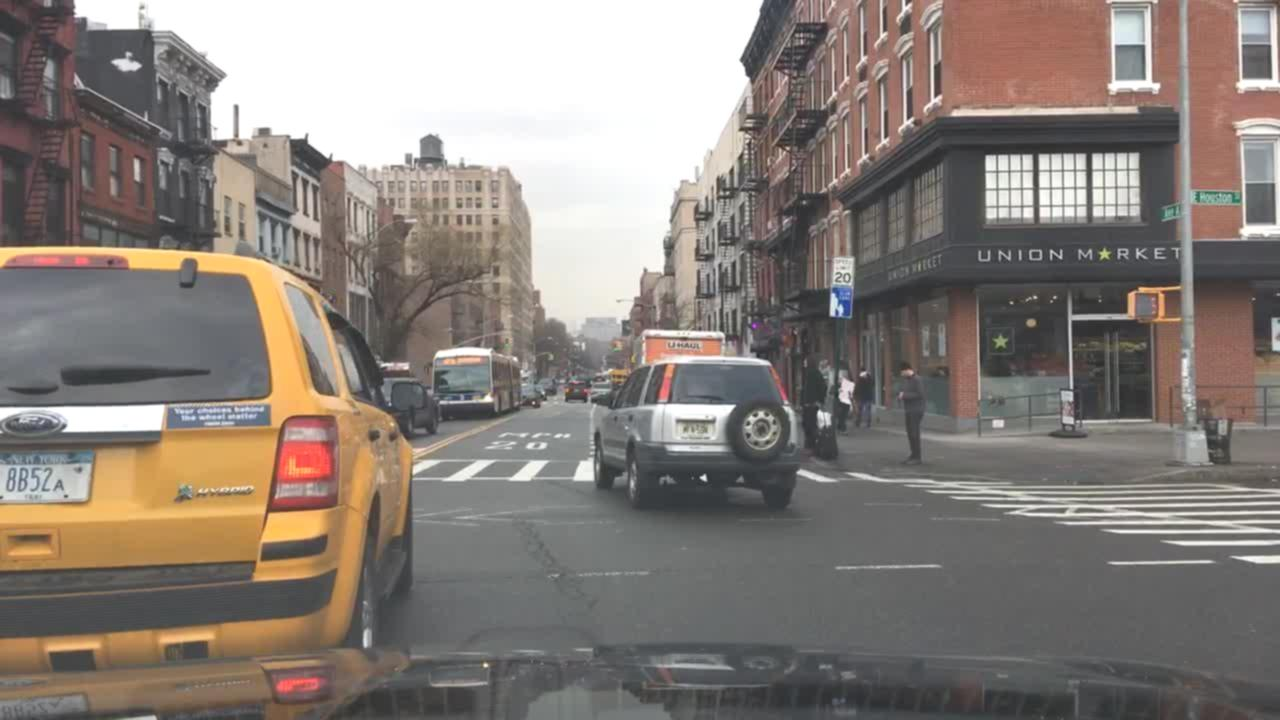ford: (1, 396, 90, 448)
